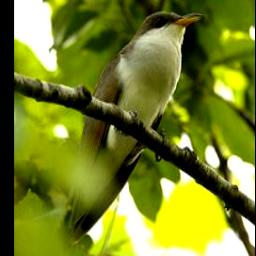Cuckoo: (54, 9, 206, 251)
